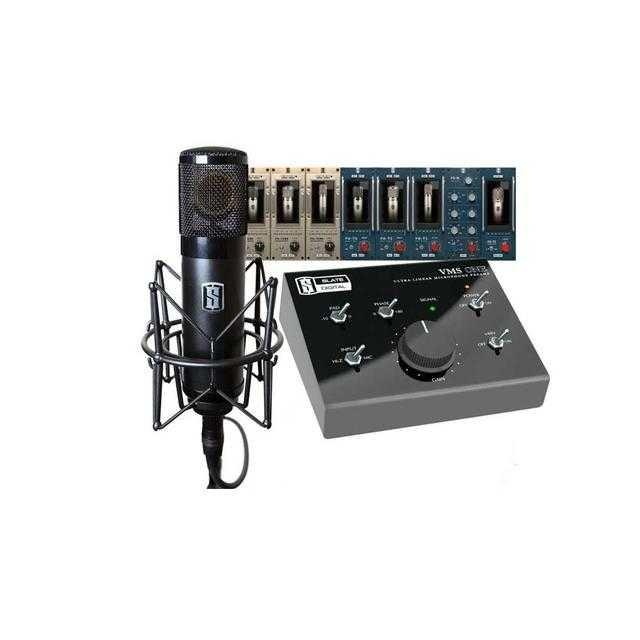microphone: (177, 146, 249, 414)
